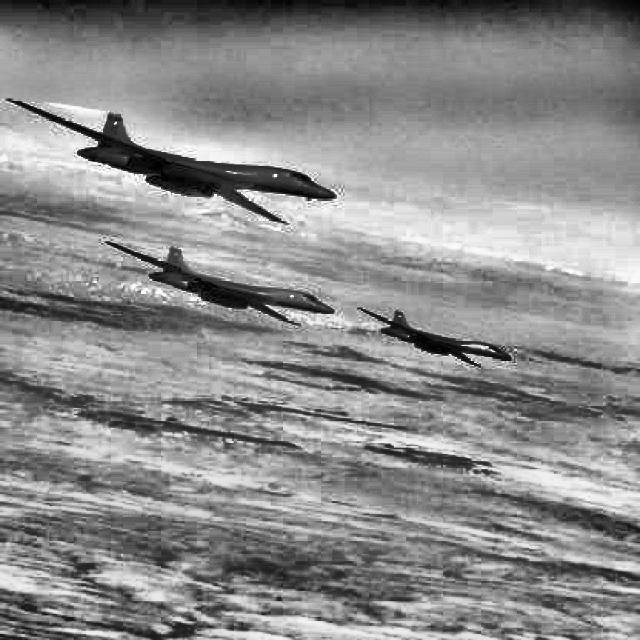B1: (5, 98, 337, 224), (104, 242, 336, 326), (356, 308, 512, 366)
